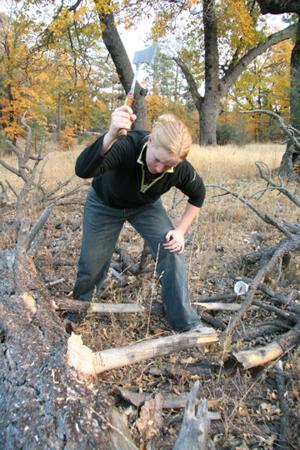person: (67, 103, 216, 338)
